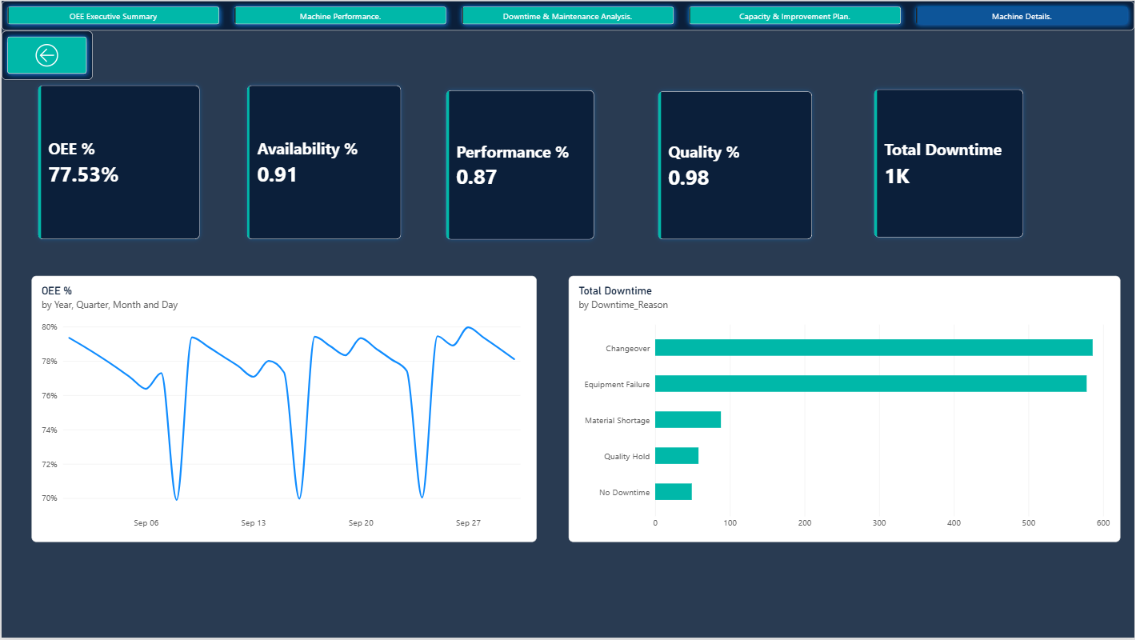

What the dashboard file says about the page in this screenshot:
{"tool":"powerbi","page":{"name":"Machine Details.","canvas":[1920,1080],"ordinal":4},"visuals":[{"type":"actionButton","box":[0,50.1,154.2,82.9],"z":0},{"type":"cardVisual","fields":{"Data":["OEE_data.OEE %"]},"box":[50.1,133,296.9,283.4],"z":1000},{"type":"cardVisual","fields":{"Data":["OEE_data.Availability %"]},"box":[404.9,133,283.4,283.4],"z":2000},{"type":"cardVisual","fields":{"Data":["OEE_data.Performance %"]},"box":[742.3,140.8,273.8,275.7],"z":3000},{"type":"cardVisual","fields":{"Data":["OEE_data.Quality %"]},"box":[1100.9,142.7,283.4,273.8],"z":4000},{"type":"cardVisual","fields":{"Data":["OEE_data.Total Downtime"]},"box":[1467.3,138.8,275.7,273.8],"z":5000},{"type":"lineChart","fields":{"Category":["OEE_data.Date.Variation.Date Hierarchy.Year","OEE_data.Date.Variation.Date Hierarchy.Quarter","OEE_data.Date.Variation.Date Hierarchy.Month","OEE_data.Date.Variation.Date Hierarchy.Day"],"Y":["OEE_data.OEE %"]},"box":[50.1,466.6,856.1,451.2],"z":6000},{"type":"barChart","fields":{"Category":["OEE_data.Downtime_Reason"],"Y":["OEE_data.Total Downtime"]},"box":[960.2,466.6,935.1,451.2],"z":7000},{"type":"pageNavigator","box":[0,0,1920.4,50.1],"z":7001}]}

Visuals, with their boxes in screenshot pixels (x1, y1, x2, y2), scaled from the page's 1920x1080 canvas onto the 1135x640 screenshot:
actionButton: bbox(0, 30, 91, 79)
cardVisual - OEE_data.OEE %: bbox(30, 79, 205, 247)
cardVisual - OEE_data.Availability %: bbox(239, 79, 407, 247)
cardVisual - OEE_data.Performance %: bbox(439, 83, 601, 247)
cardVisual - OEE_data.Quality %: bbox(651, 85, 818, 247)
cardVisual - OEE_data.Total Downtime: bbox(867, 82, 1030, 245)
lineChart - OEE_data.Date.Variation.Date Hierarchy.Year x OEE_data.Date.Variation.Date Hierarchy.Quarter: bbox(30, 277, 536, 544)
barChart - OEE_data.Downtime_Reason x OEE_data.Total Downtime: bbox(568, 277, 1120, 544)
pageNavigator: bbox(0, 0, 1134, 30)
